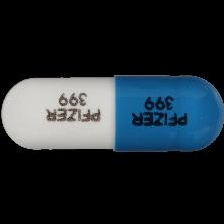21695-063: (0, 0, 224, 224)
